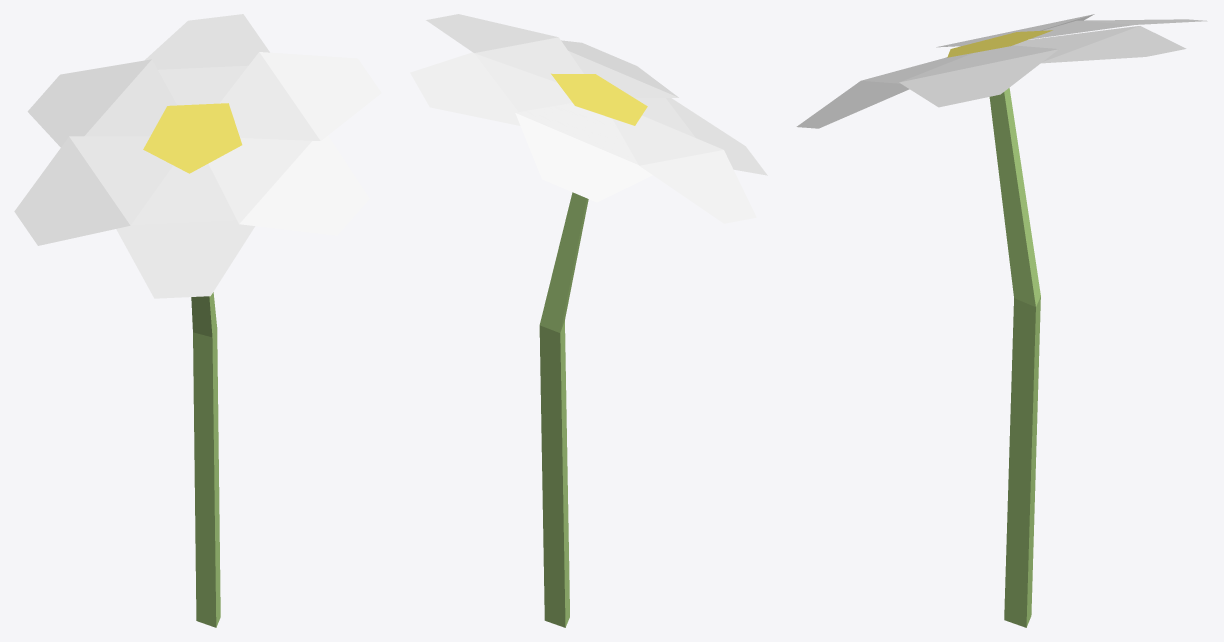
Rendered from Flower_e_OneS_04.fbx.
3 views of the same model, side by side, from view 1: azimuth 30°, elevation 25°; view 2: azimuth 150°, elevation 25°; view 3: azimuth 270°, elevation 25° (orthographic). The views are drawn at different scales.
Parts seen in each view (by area): view 1: Flower_e_OneS_04; view 2: Flower_e_OneS_04; view 3: Flower_e_OneS_04.
Boxes of the visible parts, bbox=[...] form: Flower_e_OneS_04: bbox=[14, 14, 381, 627]; Flower_e_OneS_04: bbox=[410, 14, 767, 627]; Flower_e_OneS_04: bbox=[796, 14, 1207, 627].
Size of the model in its own units: 0.197 by 0.3224 by 0.1973.
